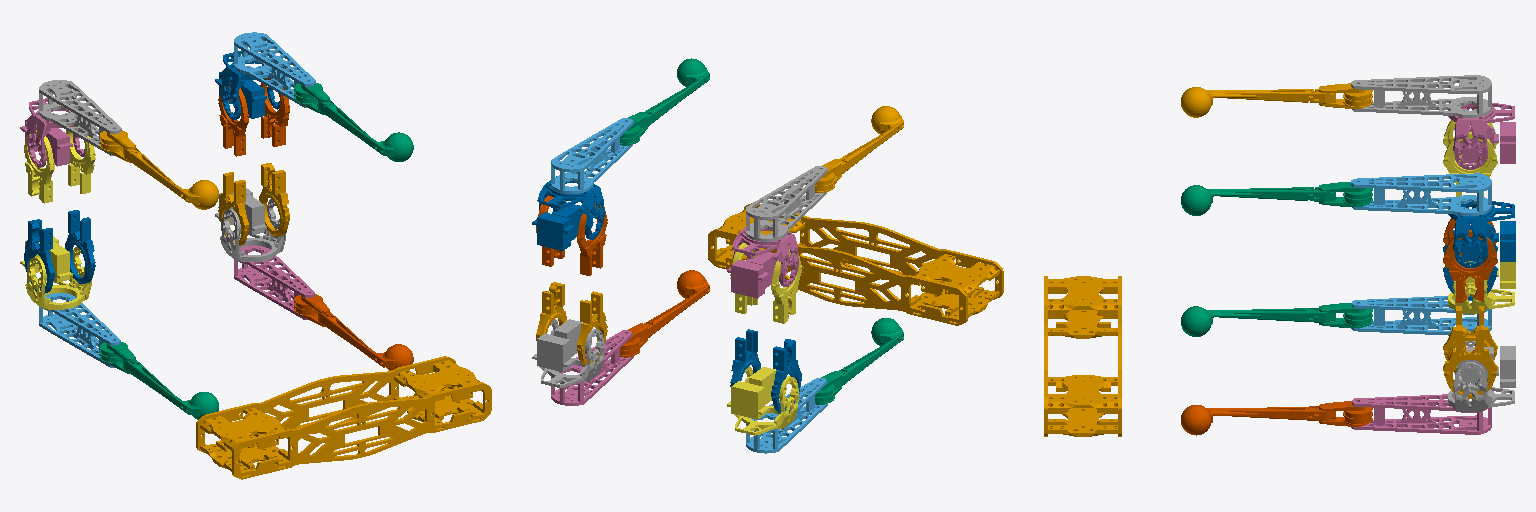
robot.urdf — SImple:
<?xml version="1.0" ?>
<robot name="SImple">

<material name="silver">
  <color rgba="0.700 0.700 0.700 1.000"/>
</material>

<link name="base_link">
  <inertial>
    <origin xyz="-0.09750467064811716 0.19962276254002817 0.31491351895180236" rpy="1.5707963267948966 0 0"/>
    <mass value="0.3031669308680312"/>
    <inertia ixx="0.0005505017789097927" iyy="0.005709060760786866" izz="0.005396693941690433" ixy="3.0904543612663565e-07" iyz="6.938893903907228e-17" ixz="2.949029909160572e-17"/>
  </inertial>
  <visual>
    <origin xyz="0 0 0" rpy="1.5707963267948966 0 0"/>
    <geometry>
      <mesh filename="meshes/base_link.stl" scale="0.001 0.001 0.001"/>
    </geometry>
    <material name="silver"/>
    <material/>
  </visual>
  <collision>
    <origin xyz="0 0 0" rpy="0 0 0"/>
    <geometry>
      <mesh filename="meshes/base_link.stl" scale="0.001 0.001 0.001"/>
    </geometry>
  </collision>
</link>

<link name="Hip_bare_1_v11">
  <inertial>
    <origin xyz="-0.027145298874750975 -0.04268398650994429 -0.018600467427111522" rpy="0 0 0"/>
    <mass value="0.04858629943894289"/>
    <inertia ixx="0.00010553112243222177" iyy="5.3089180298015754e-05" izz="0.00013695057408792764" ixy="-5.600026810017808e-05" iyz="-7.031476495413663e-07" ixz="-4.4717042108917806e-07"/>
  </inertial>
  <visual>
    <origin xyz="-0.052686 -0.199664 -0.177074" rpy="0 0 0"/>
    <geometry>
      <mesh filename="meshes/Hip_bare_1_v11.stl" scale="0.001 0.001 0.001"/>
    </geometry>
    <material name="silver"/>
    <material/>
  </visual>
  <collision>
    <origin xyz="-0.052686 -0.199664 -0.177074" rpy="0 0 0"/>
    <geometry>
      <mesh filename="meshes/Hip_bare_1_v11.stl" scale="0.001 0.001 0.001"/>
    </geometry>
  </collision>
</link>

<link name="LegXIVII.base4_bare_1_v1_11">
  <inertial>
    <origin xyz="0.091371866785443 -0.07389492447816426 -0.014098452292628294" rpy="0 0 0"/>
    <mass value="0.08449563970821981"/>
    <inertia ixx="0.0003064398351938975" iyy="0.00042312079866349767" izz="0.0007199597171141535" ixy="0.00034763957562943546" iyz="-1.1766974810739584e-08" ixz="-5.592299225695013e-10"/>
  </inertial>
  <visual>
    <origin xyz="0.025126 -0.077311 -0.172774" rpy="0 0 0"/>
    <geometry>
      <mesh filename="meshes/LegXIVII.base4_bare_1_v1_11.stl" scale="0.001 0.001 0.001"/>
    </geometry>
    <material name="silver"/>
    <material/>
  </visual>
  <collision>
    <origin xyz="0.025126 -0.077311 -0.172774" rpy="0 0 0"/>
    <geometry>
      <mesh filename="meshes/LegXIVII.base4_bare_1_v1_11.stl" scale="0.001 0.001 0.001"/>
    </geometry>
  </collision>
</link>

<link name="shoulder_bare_1_v1_11">
  <inertial>
    <origin xyz="-0.22768975807108333 0.03920519656322799 -0.23777048666446757" rpy="0 0 0"/>
    <mass value="0.10292302681608799"/>
    <inertia ixx="9.8662156003234e-05" iyy="7.669371967806461e-05" izz="9.046452156840148e-05" ixy="5.6789916856765654e-08" iyz="-1.1913745138663126e-05" ixz="-9.225282421288471e-08"/>
  </inertial>
  <visual>
    <origin xyz="-0.28035 -0.181978 -0.455147" rpy="0 0 0"/>
    <geometry>
      <mesh filename="meshes/shoulder_bare_1_v1_11.stl" scale="0.001 0.001 0.001"/>
    </geometry>
    <material name="silver"/>
    <material/>
  </visual>
  <collision>
    <origin xyz="-0.28035 -0.181978 -0.455147" rpy="0 0 0"/>
    <geometry>
      <mesh filename="meshes/shoulder_bare_1_v1_11.stl" scale="0.001 0.001 0.001"/>
    </geometry>
  </collision>
</link>

<link name="shoulder_socket_bare_1_v1_11">
  <inertial>
    <origin xyz="0.029906912829981917 0.01730796156851841 -0.03490073237561614" rpy="0 0 0"/>
    <mass value="0.04120622977897054"/>
    <inertia ixx="4.325547653287378e-05" iyy="6.909766024439795e-05" izz="5.4350493723227334e-05" ixy="8.84435406019277e-07" iyz="4.863873318888476e-07" ixz="-1.3599599603517e-06"/>
  </inertial>
  <visual>
    <origin xyz="-0.023611 -0.181664 -0.287739" rpy="0 0 0"/>
    <geometry>
      <mesh filename="meshes/shoulder_socket_bare_1_v1_11.stl" scale="0.001 0.001 0.001"/>
    </geometry>
    <material name="silver"/>
    <material/>
  </visual>
  <collision>
    <origin xyz="-0.023611 -0.181664 -0.287739" rpy="0 0 0"/>
    <geometry>
      <mesh filename="meshes/shoulder_socket_bare_1_v1_11.stl" scale="0.001 0.001 0.001"/>
    </geometry>
  </collision>
</link>

<link name="LegXIVII.base4_bare_1_v11">
  <inertial>
    <origin xyz="0.11676865496292671 -0.01321576987793438 -0.014083709221932306" rpy="0 0 0"/>
    <mass value="0.08449563970821981"/>
    <inertia ixx="2.5011136382658335e-05" iyy="0.0007045494935439905" izz="0.000719959721044876" ixy="9.388173925513349e-05" iyz="6.62879807674429e-09" ixz="-9.681232715388725e-08"/>
  </inertial>
  <visual>
    <origin xyz="0.252816 -0.052135 -0.172935" rpy="0 0 0"/>
    <geometry>
      <mesh filename="meshes/LegXIVII.base4_bare_1_v11.stl" scale="0.001 0.001 0.001"/>
    </geometry>
    <material name="silver"/>
    <material/>
  </visual>
  <collision>
    <origin xyz="0.252816 -0.052135 -0.172935" rpy="0 0 0"/>
    <geometry>
      <mesh filename="meshes/LegXIVII.base4_bare_1_v11.stl" scale="0.001 0.001 0.001"/>
    </geometry>
  </collision>
</link>

<link name="Hip_bare_1_v1_11">
  <inertial>
    <origin xyz="-0.0028262346413686357 -0.05052602032811451 -0.018545195386326097" rpy="0 0 0"/>
    <mass value="0.04858629943894289"/>
    <inertia ixx="0.00014075910999092247" iyy="1.7859515487677995e-05" izz="0.0001369522513395647" ixy="-6.898947769041824e-06" iyz="-7.017585620236119e-07" ixz="-3.9009334572466525e-08"/>
  </inertial>
  <visual>
    <origin xyz="0.244564 -0.199609 -0.177074" rpy="0 0 0"/>
    <geometry>
      <mesh filename="meshes/Hip_bare_1_v1_11.stl" scale="0.001 0.001 0.001"/>
    </geometry>
    <material name="silver"/>
    <material/>
  </visual>
  <collision>
    <origin xyz="0.244564 -0.199609 -0.177074" rpy="0 0 0"/>
    <geometry>
      <mesh filename="meshes/Hip_bare_1_v1_11.stl" scale="0.001 0.001 0.001"/>
    </geometry>
  </collision>
</link>

<link name="shoulder_bare_1_v11">
  <inertial>
    <origin xyz="-0.2276897580710801 -0.2494559673569329 -0.237794013264567" rpy="0 0 0"/>
    <mass value="0.10292302681608799"/>
    <inertia ixx="9.866215600323573e-05" iyy="7.666767933541332e-05" izz="9.049056191105624e-05" ixy="5.668899876170447e-08" iyz="-1.1898657433919574e-05" ixz="-9.231487232020524e-08"/>
  </inertial>
  <visual>
    <origin xyz="0.0169 -0.470628 -0.455147" rpy="0 0 0"/>
    <geometry>
      <mesh filename="meshes/shoulder_bare_1_v11.stl" scale="0.001 0.001 0.001"/>
    </geometry>
    <material name="silver"/>
    <material/>
  </visual>
  <collision>
    <origin xyz="0.0169 -0.470628 -0.455147" rpy="0 0 0"/>
    <geometry>
      <mesh filename="meshes/shoulder_bare_1_v11.stl" scale="0.001 0.001 0.001"/>
    </geometry>
  </collision>
</link>

<link name="shoulder_socket_bare_1_v11">
  <inertial>
    <origin xyz="0.02990691282998409 0.01730796156851863 -0.020710732375615715" rpy="0 0 0"/>
    <mass value="0.04120622977897054"/>
    <inertia ixx="4.3255476532872913e-05" iyy="6.909766024439969e-05" izz="5.4350493723227984e-05" ixy="8.844354060194397e-07" iyz="4.863873318888476e-07" ixz="-1.3599599603510495e-06"/>
  </inertial>
  <visual>
    <origin xyz="0.273639 -0.181664 -0.273549" rpy="0 0 0"/>
    <geometry>
      <mesh filename="meshes/shoulder_socket_bare_1_v11.stl" scale="0.001 0.001 0.001"/>
    </geometry>
    <material name="silver"/>
    <material/>
  </visual>
  <collision>
    <origin xyz="0.273639 -0.181664 -0.273549" rpy="0 0 0"/>
    <geometry>
      <mesh filename="meshes/shoulder_socket_bare_1_v11.stl" scale="0.001 0.001 0.001"/>
    </geometry>
  </collision>
</link>

<link name="Hip_bare_1_v1Mirror_11">
  <inertial>
    <origin xyz="-4.630972996744198e-08 -0.050584500193273485 0.018599505330694655" rpy="-1.5707963267948966 0 0"/>
    <mass value="0.048586299438942826"/>
    <inertia ixx="0.00014114516855578442" iyy="1.7475134174455703e-05" izz="0.00013695057408792417" ixy="-1.5413251816358275e-10" iyz="8.332934672392218e-07" ixz="-3.020104999418294e-12"/>
  </inertial>
  <visual>
    <origin xyz="0.244564 -0.199664 -0.452754" rpy="0 0 0"/>
    <geometry>
      <mesh filename="meshes/Hip_bare_1_v1Mirror_11.stl" scale="0.001 0.001 0.001"/>
    </geometry>
    <material name="silver"/>
    <material/>
  </visual>
  <collision>
    <origin xyz="0.244564 -0.199664 -0.452754" rpy="0 0 0"/>
    <geometry>
      <mesh filename="meshes/Hip_bare_1_v1Mirror_11.stl" scale="0.001 0.001 0.001"/>
    </geometry>
  </collision>
</link>

<link name="LegXIVII.base4_bare_1_v1Mirror2">
  <inertial>
    <origin xyz="0.11727171805355044 -0.007518881036474731 -0.014102510433110282" rpy="0 0 0"/>
    <mass value="0.08449564222418197"/>
    <inertia ixx="1.7511156432472447e-05" iyy="0.0007120494893299439" izz="0.0007199597268837555" ixy="6.05063289722379e-05" iyz="9.927357059015887e-09" ixz="-6.345751103406516e-09"/>
  </inertial>
  <visual>
    <origin xyz="0.244564 -0.054664 -0.484854" rpy="0 0 0"/>
    <geometry>
      <mesh filename="meshes/LegXIVII.base4_bare_1_v1Mirror2.stl" scale="0.001 0.001 0.001"/>
    </geometry>
    <material name="silver"/>
    <material/>
  </visual>
  <collision>
    <origin xyz="0.244564 -0.054664 -0.484854" rpy="0 0 0"/>
    <geometry>
      <mesh filename="meshes/LegXIVII.base4_bare_1_v1Mirror2.stl" scale="0.001 0.001 0.001"/>
    </geometry>
  </collision>
</link>

<link name="shoulder_socket_bare_1_v1Mirror_11">
  <inertial>
    <origin xyz="0.02990680133623245 0.017308057724288367 0.034900016334206085" rpy="0 0 0"/>
    <mass value="0.04120661127616922"/>
    <inertia ixx="4.325611180009542e-05" iyy="6.90984599459668e-05" izz="5.435104340461238e-05" ixy="8.844813634335835e-07" iyz="-4.864903480139918e-07" ixz="1.360082640901772e-06"/>
  </inertial>
  <visual>
    <origin xyz="-0.023611 -0.181664 -0.342089" rpy="0 0 0"/>
    <geometry>
      <mesh filename="meshes/shoulder_socket_bare_1_v1Mirror_11.stl" scale="0.001 0.001 0.001"/>
    </geometry>
    <material name="silver"/>
    <material/>
  </visual>
  <collision>
    <origin xyz="-0.023611 -0.181664 -0.342089" rpy="0 0 0"/>
    <geometry>
      <mesh filename="meshes/shoulder_socket_bare_1_v1Mirror_11.stl" scale="0.001 0.001 0.001"/>
    </geometry>
  </collision>
</link>

<link name="shoulder_bare_1_v1Mirror_11">
  <inertial>
    <origin xyz="-0.22768975811316028 0.04780520130723759 -0.39205648109134" rpy="0 0 0"/>
    <mass value="0.10292297488236483"/>
    <inertia ixx="9.866212277473418e-05" iyy="7.669361517241569e-05" izz="9.046444386262564e-05" ixy="5.678984782995014e-08" iyz="1.1913732534934302e-05" ixz="9.225279835921654e-08"/>
  </inertial>
  <visual>
    <origin xyz="-0.28035 -0.173378 -0.804507" rpy="0 0 0"/>
    <geometry>
      <mesh filename="meshes/shoulder_bare_1_v1Mirror_11.stl" scale="0.001 0.001 0.001"/>
    </geometry>
    <material name="silver"/>
    <material/>
  </visual>
  <collision>
    <origin xyz="-0.28035 -0.173378 -0.804507" rpy="0 0 0"/>
    <geometry>
      <mesh filename="meshes/shoulder_bare_1_v1Mirror_11.stl" scale="0.001 0.001 0.001"/>
    </geometry>
  </collision>
</link>

<link name="shoulder_socket_bare_1_v1Mirror2">
  <inertial>
    <origin xyz="0.029906801336234717 0.017308057724289172 0.034900016334205974" rpy="0 0 0"/>
    <mass value="0.04120661127616922"/>
    <inertia ixx="4.3256111800097155e-05" iyy="6.909845994596854e-05" izz="5.435104340460999e-05" ixy="8.844813634326619e-07" iyz="-4.864903480144254e-07" ixz="1.3600826409003626e-06"/>
  </inertial>
  <visual>
    <origin xyz="0.273639 -0.181664 -0.342089" rpy="0 0 0"/>
    <geometry>
      <mesh filename="meshes/shoulder_socket_bare_1_v1Mirror2.stl" scale="0.001 0.001 0.001"/>
    </geometry>
    <material name="silver"/>
    <material/>
  </visual>
  <collision>
    <origin xyz="0.273639 -0.181664 -0.342089" rpy="0 0 0"/>
    <geometry>
      <mesh filename="meshes/shoulder_socket_bare_1_v1Mirror2.stl" scale="0.001 0.001 0.001"/>
    </geometry>
  </collision>
</link>

<link name="shoulder_bare_1_v1Mirror2">
  <inertial>
    <origin xyz="-0.22768975811315786 -0.24944479869276187 -0.3920564810913404" rpy="0 0 0"/>
    <mass value="0.10292297488236483"/>
    <inertia ixx="9.866212277472725e-05" iyy="7.669361517241569e-05" izz="9.046444386262738e-05" ixy="5.6789847832118545e-08" iyz="1.1913732534934302e-05" ixz="9.225279835531341e-08"/>
  </inertial>
  <visual>
    <origin xyz="0.0169 -0.470628 -0.804507" rpy="0 0 0"/>
    <geometry>
      <mesh filename="meshes/shoulder_bare_1_v1Mirror2.stl" scale="0.001 0.001 0.001"/>
    </geometry>
    <material name="silver"/>
    <material/>
  </visual>
  <collision>
    <origin xyz="0.0169 -0.470628 -0.804507" rpy="0 0 0"/>
    <geometry>
      <mesh filename="meshes/shoulder_bare_1_v1Mirror2.stl" scale="0.001 0.001 0.001"/>
    </geometry>
  </collision>
</link>

<link name="Hip_bare_1_v1Mirror1">
  <inertial>
    <origin xyz="-0.027206548786188747 -0.042644972148695476 0.01859950533069571" rpy="0 0 0"/>
    <mass value="0.048586299438942826"/>
    <inertia ixx="0.00010537022411207832" iyy="5.32500786181566e-05" izz="0.00013695057408793045" ixy="-5.6075323979598026e-05" iyz="7.025049573740859e-07" ixz="4.481794143158758e-07"/>
  </inertial>
  <visual>
    <origin xyz="-0.052686 -0.199664 -0.452754" rpy="0 0 0"/>
    <geometry>
      <mesh filename="meshes/Hip_bare_1_v1Mirror1.stl" scale="0.001 0.001 0.001"/>
    </geometry>
    <material name="silver"/>
    <material/>
  </visual>
  <collision>
    <origin xyz="-0.052686 -0.199664 -0.452754" rpy="0 0 0"/>
    <geometry>
      <mesh filename="meshes/Hip_bare_1_v1Mirror1.stl" scale="0.001 0.001 0.001"/>
    </geometry>
  </collision>
</link>

<link name="LegXIVII.base4_bare_1_v1Mirror_11">
  <inertial>
    <origin xyz="0.0948209437170567 -0.06941209849616288 -0.014102510433109727" rpy="0 0 0"/>
    <mass value="0.08449564222418197"/>
    <inertia ixx="0.00027329494020243705" iyy="0.00045626570555997933" izz="0.0007199597268837671" ixy="0.0003404222592131999" iyz="1.1782226762811765e-08" ixz="-1.037923696642351e-11"/>
  </inertial>
  <visual>
    <origin xyz="0.025301 -0.077422 -0.484854" rpy="0 0 0"/>
    <geometry>
      <mesh filename="meshes/LegXIVII.base4_bare_1_v1Mirror_11.stl" scale="0.001 0.001 0.001"/>
    </geometry>
    <material name="silver"/>
    <material/>
  </visual>
  <collision>
    <origin xyz="0.025301 -0.077422 -0.484854" rpy="0 0 0"/>
    <geometry>
      <mesh filename="meshes/LegXIVII.base4_bare_1_v1Mirror_11.stl" scale="0.001 0.001 0.001"/>
    </geometry>
  </collision>
</link>

<joint name="Revolute_2" type="revolute">
  <origin xyz="-0.227664 0.017686 -0.278073" rpy="0 0 0"/>
  <parent link="shoulder_bare_1_v1_11"/>
  <child link="Hip_bare_1_v11"/>
  <axis xyz="0.0 -0.0 1.0"/>
  <limit upper="1.308997" lower="-1.308997" effort="100" velocity="100"/>
</joint>
<transmission name="Revolute_2_tran">
  <type>transmission_interface/SimpleTransmission</type>
  <joint name="Revolute_2">
    <hardwareInterface>PositionJointInterface</hardwareInterface>
  </joint>
  <actuator name="Revolute_2_actr">
    <hardwareInterface>PositionJointInterface</hardwareInterface>
    <mechanicalReduction>1</mechanicalReduction>
  </actuator>
</transmission>

<joint name="Revolute_3" type="revolute">
  <origin xyz="-0.077812 -0.122353 -0.0043" rpy="0 0 0"/>
  <parent link="Hip_bare_1_v11"/>
  <child link="LegXIVII.base4_bare_1_v1_11"/>
  <axis xyz="0.0 0.0 -1.0"/>
  <limit upper="2.268928" lower="-0.349066" effort="100" velocity="100"/>
</joint>
<transmission name="Revolute_3_tran">
  <type>transmission_interface/SimpleTransmission</type>
  <joint name="Revolute_3">
    <hardwareInterface>PositionJointInterface</hardwareInterface>
  </joint>
  <actuator name="Revolute_3_actr">
    <hardwareInterface>PositionJointInterface</hardwareInterface>
    <mechanicalReduction>1</mechanicalReduction>
  </actuator>
</transmission>

<joint name="Revolute_4" type="revolute">
  <origin xyz="0.256739 0.000314 0.167408" rpy="0 0 0"/>
  <parent link="shoulder_socket_bare_1_v1_11"/>
  <child link="shoulder_bare_1_v1_11"/>
  <axis xyz="1.0 -0.0 0.0"/>
  <limit upper="1.047198" lower="-1.570796" effort="100" velocity="100"/>
</joint>
<transmission name="Revolute_4_tran">
  <type>transmission_interface/SimpleTransmission</type>
  <joint name="Revolute_4">
    <hardwareInterface>PositionJointInterface</hardwareInterface>
  </joint>
  <actuator name="Revolute_4_actr">
    <hardwareInterface>PositionJointInterface</hardwareInterface>
    <mechanicalReduction>1</mechanicalReduction>
  </actuator>
</transmission>

<joint name="Rigid_6" type="fixed">
  <origin xyz="0.023611 0.181664 0.287739" rpy="0 0 0"/>
  <parent link="base_link"/>
  <child link="shoulder_socket_bare_1_v1_11"/>
</joint>

<joint name="Revolute_7" type="revolute">
  <origin xyz="-0.008252 -0.147474 -0.004139" rpy="0 0 0"/>
  <parent link="Hip_bare_1_v1_11"/>
  <child link="LegXIVII.base4_bare_1_v11"/>
  <axis xyz="-0.0 0.001094 0.999999"/>
  <limit upper="0.872665" lower="-2.792527" effort="100" velocity="100"/>
</joint>
<transmission name="Revolute_7_tran">
  <type>transmission_interface/SimpleTransmission</type>
  <joint name="Revolute_7">
    <hardwareInterface>PositionJointInterface</hardwareInterface>
  </joint>
  <actuator name="Revolute_7_actr">
    <hardwareInterface>PositionJointInterface</hardwareInterface>
    <mechanicalReduction>1</mechanicalReduction>
  </actuator>
</transmission>

<joint name="Revolute_8" type="revolute">
  <origin xyz="-0.227664 -0.271019 -0.278073" rpy="0 0 0"/>
  <parent link="shoulder_bare_1_v11"/>
  <child link="Hip_bare_1_v1_11"/>
  <axis xyz="0.0 0.001094 0.999999"/>
  <limit upper="1.308997" lower="-1.308997" effort="100" velocity="100"/>
</joint>
<transmission name="Revolute_8_tran">
  <type>transmission_interface/SimpleTransmission</type>
  <joint name="Revolute_8">
    <hardwareInterface>PositionJointInterface</hardwareInterface>
  </joint>
  <actuator name="Revolute_8_actr">
    <hardwareInterface>PositionJointInterface</hardwareInterface>
    <mechanicalReduction>1</mechanicalReduction>
  </actuator>
</transmission>

<joint name="Revolute_9" type="revolute">
  <origin xyz="0.256739 0.288964 0.181598" rpy="0 0 0"/>
  <parent link="shoulder_socket_bare_1_v11"/>
  <child link="shoulder_bare_1_v11"/>
  <axis xyz="-1.0 0.0 -0.0"/>
  <limit upper="1.570796" lower="-1.047198" effort="100" velocity="100"/>
</joint>
<transmission name="Revolute_9_tran">
  <type>transmission_interface/SimpleTransmission</type>
  <joint name="Revolute_9">
    <hardwareInterface>PositionJointInterface</hardwareInterface>
  </joint>
  <actuator name="Revolute_9_actr">
    <hardwareInterface>PositionJointInterface</hardwareInterface>
    <mechanicalReduction>1</mechanicalReduction>
  </actuator>
</transmission>

<joint name="Rigid_10" type="fixed">
  <origin xyz="-0.273639 0.181664 0.273549" rpy="0 0 0"/>
  <parent link="base_link"/>
  <child link="shoulder_socket_bare_1_v11"/>
</joint>

<joint name="Revolute_19" type="revolute">
  <origin xyz="-0.227664 -0.270964 -0.351753" rpy="0 0 0"/>
  <parent link="shoulder_bare_1_v1Mirror2"/>
  <child link="Hip_bare_1_v1Mirror_11"/>
  <axis xyz="-0.0 0.0 1.0"/>
  <limit upper="1.308997" lower="-1.308997" effort="100" velocity="100"/>
</joint>
<transmission name="Revolute_19_tran">
  <type>transmission_interface/SimpleTransmission</type>
  <joint name="Revolute_19">
    <hardwareInterface>PositionJointInterface</hardwareInterface>
  </joint>
  <actuator name="Revolute_19_actr">
    <hardwareInterface>PositionJointInterface</hardwareInterface>
    <mechanicalReduction>1</mechanicalReduction>
  </actuator>
</transmission>

<joint name="Revolute_20" type="revolute">
  <origin xyz="0.0 -0.145 0.0321" rpy="0 0 0"/>
  <parent link="Hip_bare_1_v1Mirror_11"/>
  <child link="LegXIVII.base4_bare_1_v1Mirror2"/>
  <axis xyz="-0.0 0.0 1.0"/>
  <limit upper="0.349066" lower="-2.268928" effort="100" velocity="100"/>
</joint>
<transmission name="Revolute_20_tran">
  <type>transmission_interface/SimpleTransmission</type>
  <joint name="Revolute_20">
    <hardwareInterface>PositionJointInterface</hardwareInterface>
  </joint>
  <actuator name="Revolute_20_actr">
    <hardwareInterface>PositionJointInterface</hardwareInterface>
    <mechanicalReduction>1</mechanicalReduction>
  </actuator>
</transmission>

<joint name="Rigid_21" type="fixed">
  <origin xyz="0.023611 0.181664 0.342089" rpy="0 0 0"/>
  <parent link="base_link"/>
  <child link="shoulder_socket_bare_1_v1Mirror_11"/>
</joint>

<joint name="Revolute_22" type="revolute">
  <origin xyz="0.256739 -0.008286 0.462418" rpy="0 0 0"/>
  <parent link="shoulder_socket_bare_1_v1Mirror_11"/>
  <child link="shoulder_bare_1_v1Mirror_11"/>
  <axis xyz="-1.0 0.0 -0.0"/>
  <limit upper="1.047198" lower="-1.570796" effort="100" velocity="100"/>
</joint>
<transmission name="Revolute_22_tran">
  <type>transmission_interface/SimpleTransmission</type>
  <joint name="Revolute_22">
    <hardwareInterface>PositionJointInterface</hardwareInterface>
  </joint>
  <actuator name="Revolute_22_actr">
    <hardwareInterface>PositionJointInterface</hardwareInterface>
    <mechanicalReduction>1</mechanicalReduction>
  </actuator>
</transmission>

<joint name="Rigid_23" type="fixed">
  <origin xyz="-0.273639 0.181664 0.342089" rpy="0 0 0"/>
  <parent link="base_link"/>
  <child link="shoulder_socket_bare_1_v1Mirror2"/>
</joint>

<joint name="Revolute_24" type="revolute">
  <origin xyz="0.256739 0.288964 0.462418" rpy="0 0 0"/>
  <parent link="shoulder_socket_bare_1_v1Mirror2"/>
  <child link="shoulder_bare_1_v1Mirror2"/>
  <axis xyz="1.0 0.0 -0.0"/>
  <limit upper="1.570796" lower="-1.047198" effort="100" velocity="100"/>
</joint>
<transmission name="Revolute_24_tran">
  <type>transmission_interface/SimpleTransmission</type>
  <joint name="Revolute_24">
    <hardwareInterface>PositionJointInterface</hardwareInterface>
  </joint>
  <actuator name="Revolute_24_actr">
    <hardwareInterface>PositionJointInterface</hardwareInterface>
    <mechanicalReduction>1</mechanicalReduction>
  </actuator>
</transmission>

<joint name="Revolute_25" type="revolute">
  <origin xyz="-0.227664 0.026286 -0.351753" rpy="0 0 0"/>
  <parent link="shoulder_bare_1_v1Mirror_11"/>
  <child link="Hip_bare_1_v1Mirror1"/>
  <axis xyz="0.0 -0.0 1.0"/>
  <limit upper="1.308997" lower="-1.308997" effort="100" velocity="100"/>
</joint>
<transmission name="Revolute_25_tran">
  <type>transmission_interface/SimpleTransmission</type>
  <joint name="Revolute_25">
    <hardwareInterface>PositionJointInterface</hardwareInterface>
  </joint>
  <actuator name="Revolute_25_actr">
    <hardwareInterface>PositionJointInterface</hardwareInterface>
    <mechanicalReduction>1</mechanicalReduction>
  </actuator>
</transmission>

<joint name="Revolute_26" type="revolute">
  <origin xyz="-0.077987 -0.122242 0.0321" rpy="0 0 0"/>
  <parent link="Hip_bare_1_v1Mirror1"/>
  <child link="LegXIVII.base4_bare_1_v1Mirror_11"/>
  <axis xyz="-0.0 -0.0 1.0"/>
  <limit upper="0.349066" lower="-2.268928" effort="100" velocity="100"/>
</joint>
<transmission name="Revolute_26_tran">
  <type>transmission_interface/SimpleTransmission</type>
  <joint name="Revolute_26">
    <hardwareInterface>PositionJointInterface</hardwareInterface>
  </joint>
  <actuator name="Revolute_26_actr">
    <hardwareInterface>PositionJointInterface</hardwareInterface>
    <mechanicalReduction>1</mechanicalReduction>
  </actuator>
</transmission>

</robot>

--- Render facts (derived) ---
3 views of the same robot in one strip: view 1: azimuth 30°, elevation 25°; view 2: azimuth 150°, elevation 25°; view 3: azimuth 270°, elevation 25° (orthographic).
Robot: SImple — 17 links, 16 joints (12 revolute, 4 fixed); root link base_link; default pose: all joints at 0.
Links seen in each view (by area): view 1: base_link, Hip_bare_1_v1Mirror1, Hip_bare_1_v1Mirror_11, shoulder_socket_bare_1_v1_11, shoulder_socket_bare_1_v11, shoulder_bare_1_v11, Hip_bare_1_v11, shoulder_bare_1_v1_11, Hip_bare_1_v1_11, LegXIVII.base4_bare_1_v1Mirror_11, LegXIVII.base4_bare_1_v1Mirror2, shoulder_socket_bare_1_v1Mirror2 (+5 smaller); view 2: base_link, Hip_bare_1_v1Mirror_11, Hip_bare_1_v1Mirror1, shoulder_bare_1_v1Mirror_11, shoulder_bare_1_v1Mirror2, shoulder_bare_1_v1_11, shoulder_bare_1_v11, shoulder_socket_bare_1_v1_11, shoulder_socket_bare_1_v11, Hip_bare_1_v1_11, Hip_bare_1_v11, LegXIVII.base4_bare_1_v11 (+5 smaller); view 3: base_link, Hip_bare_1_v1Mirror1, Hip_bare_1_v1Mirror_11, Hip_bare_1_v1_11, Hip_bare_1_v11, LegXIVII.base4_bare_1_v11, LegXIVII.base4_bare_1_v1_11, LegXIVII.base4_bare_1_v1Mirror_11, LegXIVII.base4_bare_1_v1Mirror2, shoulder_bare_1_v11, shoulder_bare_1_v1Mirror2, shoulder_bare_1_v1Mirror_11 (+4 smaller).
Link boxes in pixels (bbox=[...]): base_link: bbox=[196, 356, 491, 479]; Hip_bare_1_v1Mirror1: bbox=[39, 80, 121, 155]; Hip_bare_1_v1Mirror_11: bbox=[234, 32, 315, 107]; shoulder_socket_bare_1_v1_11: bbox=[24, 210, 95, 293]; shoulder_socket_bare_1_v11: bbox=[218, 163, 289, 245]; shoulder_bare_1_v11: bbox=[215, 188, 286, 261]; Hip_bare_1_v11: bbox=[39, 293, 120, 367]; shoulder_bare_1_v1_11: bbox=[20, 236, 91, 309]; Hip_bare_1_v1_11: bbox=[234, 245, 314, 319]; LegXIVII.base4_bare_1_v1Mirror_11: bbox=[100, 130, 218, 209]; LegXIVII.base4_bare_1_v1Mirror2: bbox=[294, 83, 413, 161]; shoulder_socket_bare_1_v1Mirror2: bbox=[218, 78, 289, 156]; base_link: bbox=[708, 202, 1003, 325]; Hip_bare_1_v1Mirror_11: bbox=[551, 118, 633, 193]; Hip_bare_1_v1Mirror1: bbox=[746, 166, 827, 241]; shoulder_bare_1_v1Mirror_11: bbox=[532, 176, 604, 250]; shoulder_bare_1_v1Mirror2: bbox=[727, 227, 798, 298]; shoulder_bare_1_v1_11: bbox=[727, 366, 798, 435]; shoulder_bare_1_v11: bbox=[532, 319, 604, 387]; shoulder_socket_bare_1_v1_11: bbox=[730, 329, 801, 412]; shoulder_socket_bare_1_v11: bbox=[536, 282, 607, 365]; Hip_bare_1_v1_11: bbox=[551, 330, 633, 405]; Hip_bare_1_v11: bbox=[746, 378, 827, 453]; LegXIVII.base4_bare_1_v11: bbox=[620, 270, 709, 357]; base_link: bbox=[1044, 276, 1121, 436]; Hip_bare_1_v1Mirror1: bbox=[1351, 75, 1491, 117]; Hip_bare_1_v1Mirror_11: bbox=[1351, 173, 1491, 215]; Hip_bare_1_v1_11: bbox=[1351, 394, 1491, 434]; Hip_bare_1_v11: bbox=[1351, 296, 1491, 335]; LegXIVII.base4_bare_1_v11: bbox=[1181, 401, 1372, 435]; LegXIVII.base4_bare_1_v1_11: bbox=[1181, 303, 1372, 336]; LegXIVII.base4_bare_1_v1Mirror_11: bbox=[1181, 83, 1372, 117]; LegXIVII.base4_bare_1_v1Mirror2: bbox=[1181, 182, 1372, 215]; shoulder_bare_1_v11: bbox=[1448, 341, 1515, 411]; shoulder_bare_1_v1Mirror2: bbox=[1448, 103, 1515, 169]; shoulder_bare_1_v1Mirror_11: bbox=[1448, 201, 1515, 267].
Bounding box of the posed robot: 0.398 × 0.6072 × 0.3586 m (x, y, z).
Meshes: 17 distinct files referenced, 17 mesh visuals loaded (17 binary STL).
